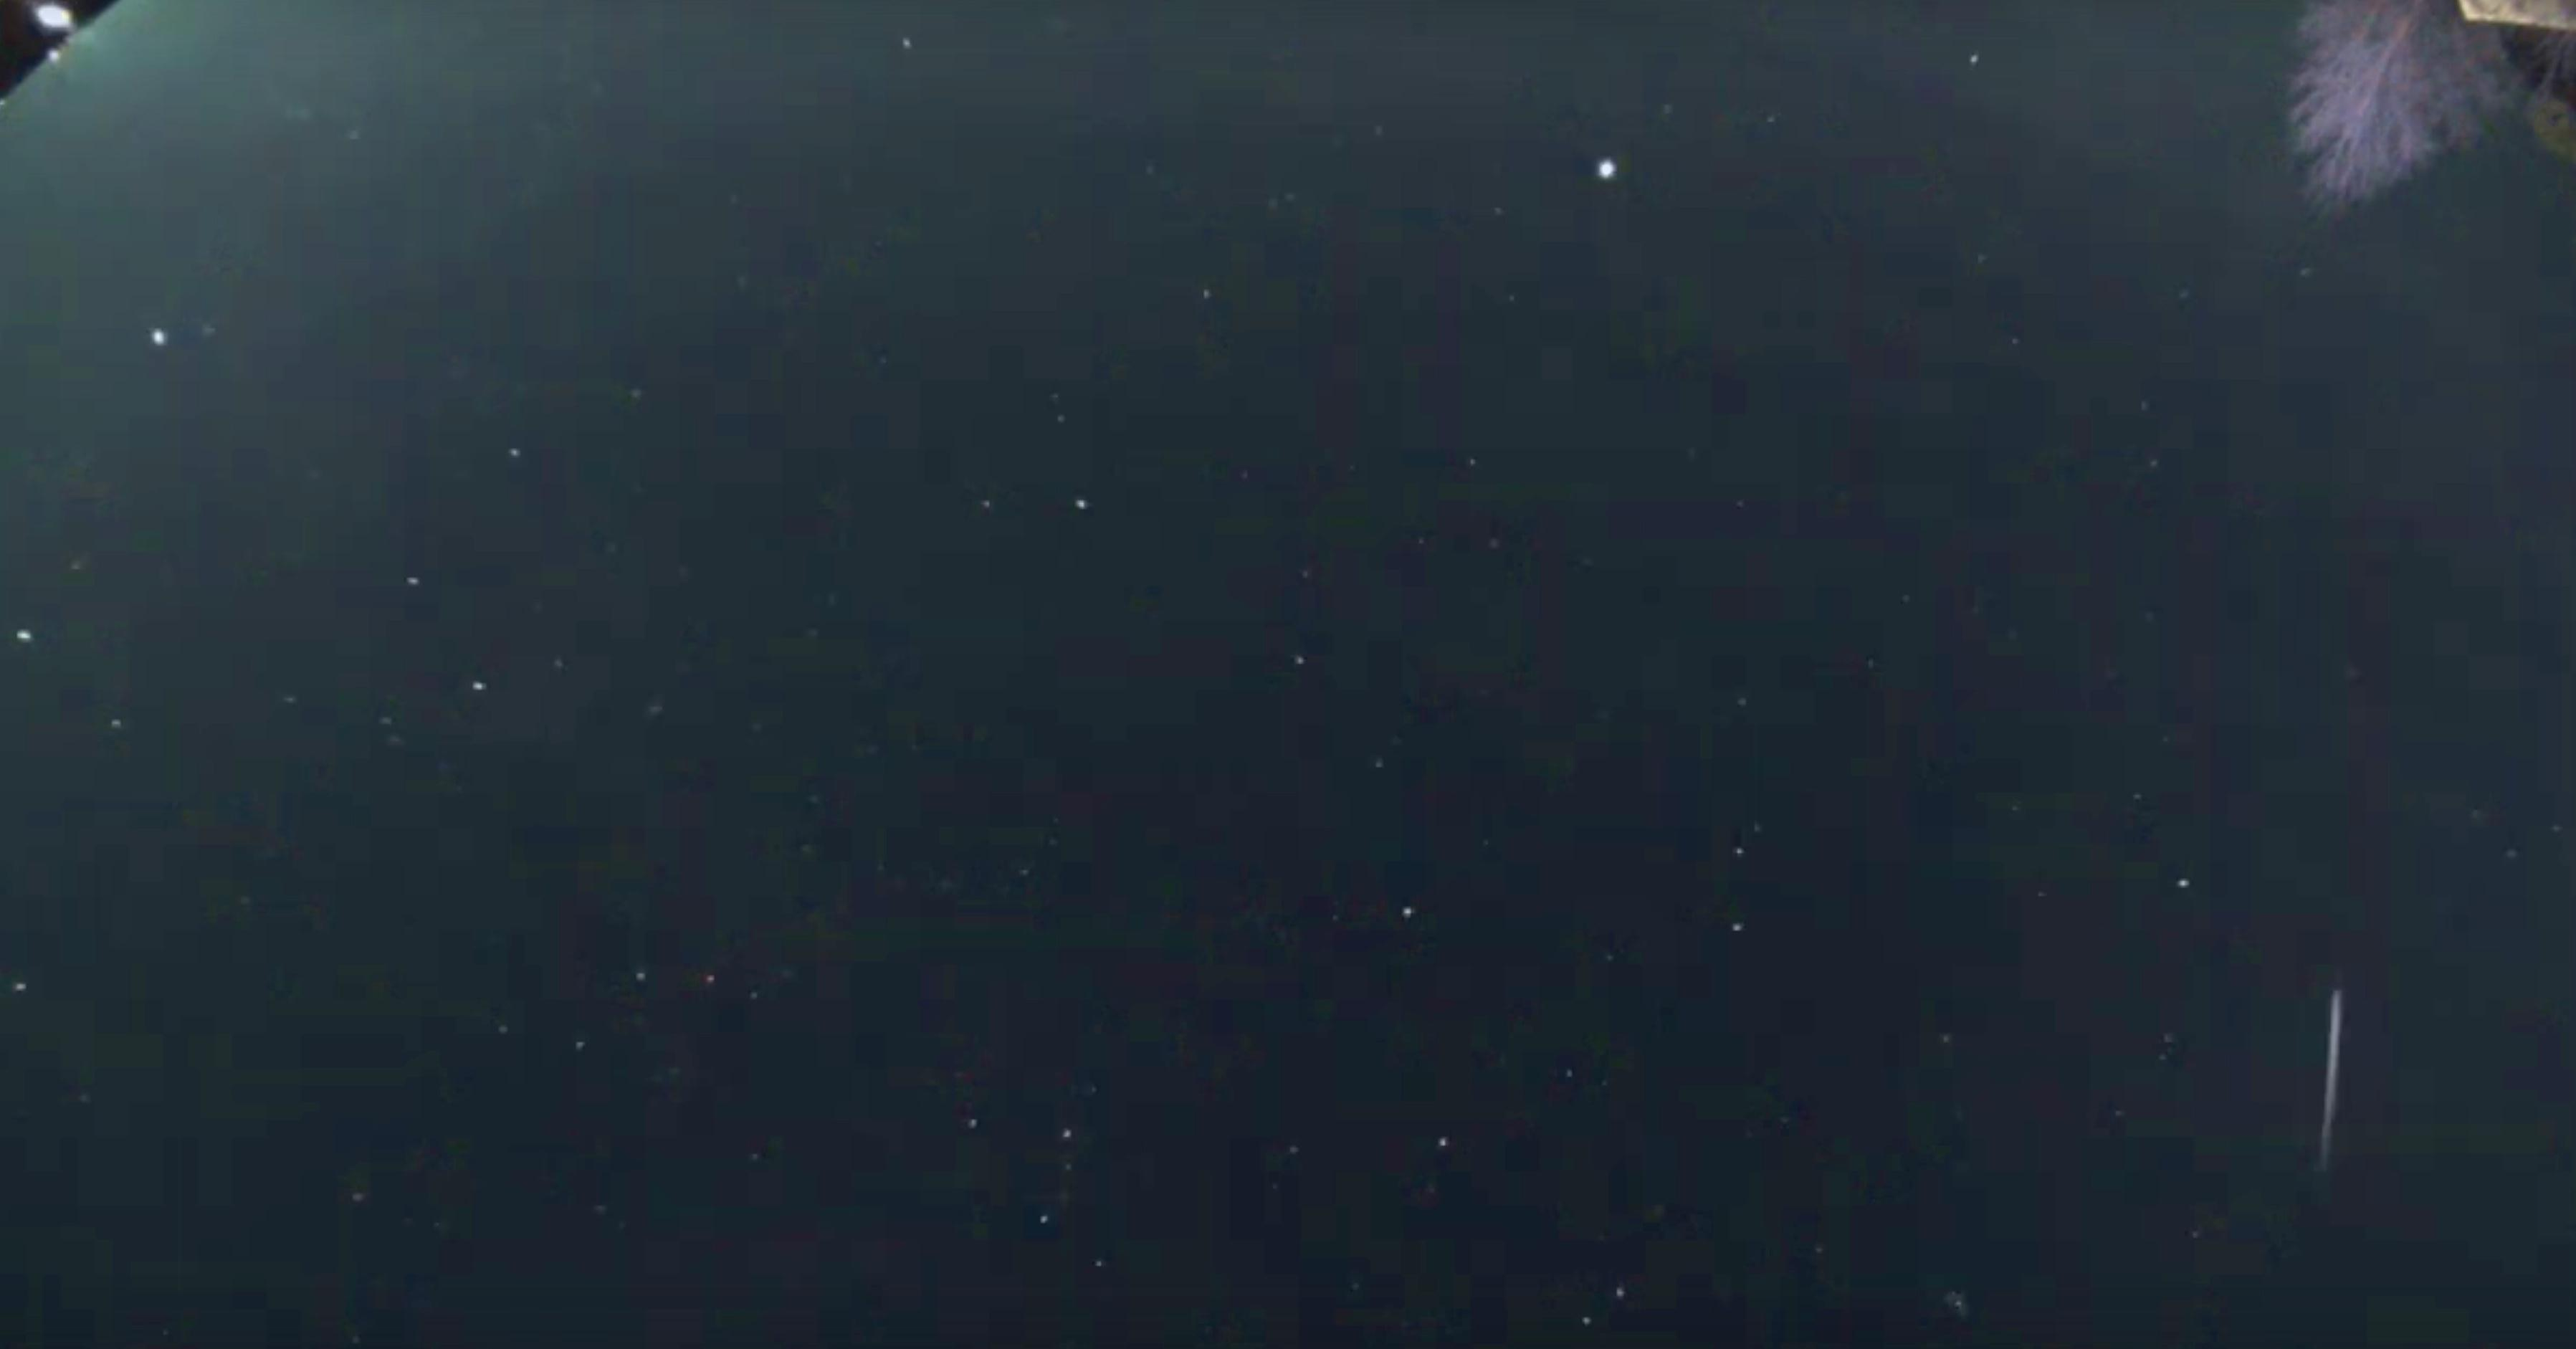meteorite: (2283, 978, 2382, 1191)
